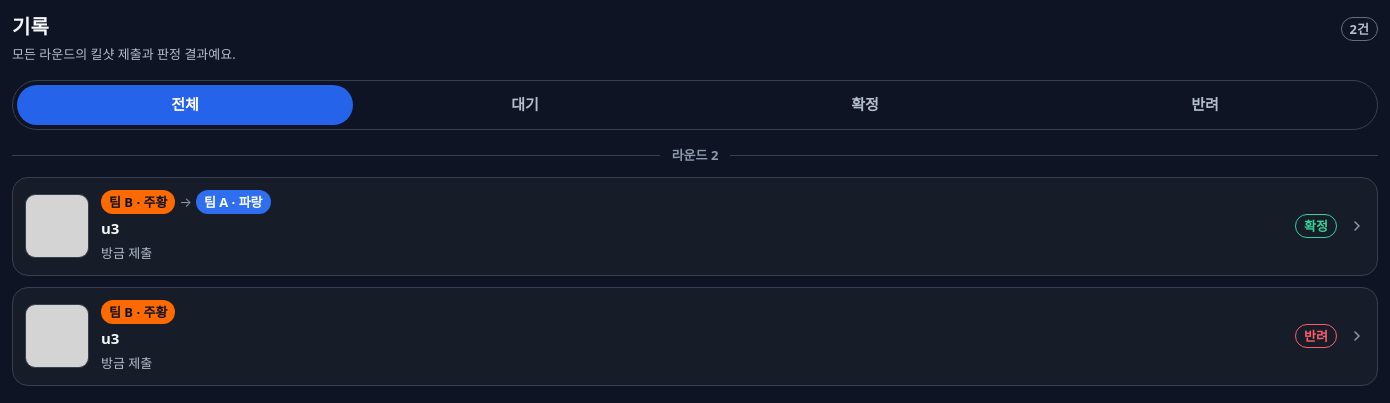
Test: RecordLogList › 상태 필터로 반려만 남긴다
Click the radio button labelled "반려".
click(1205, 105)  # box left=1037, top=85, right=1373, bottom=125
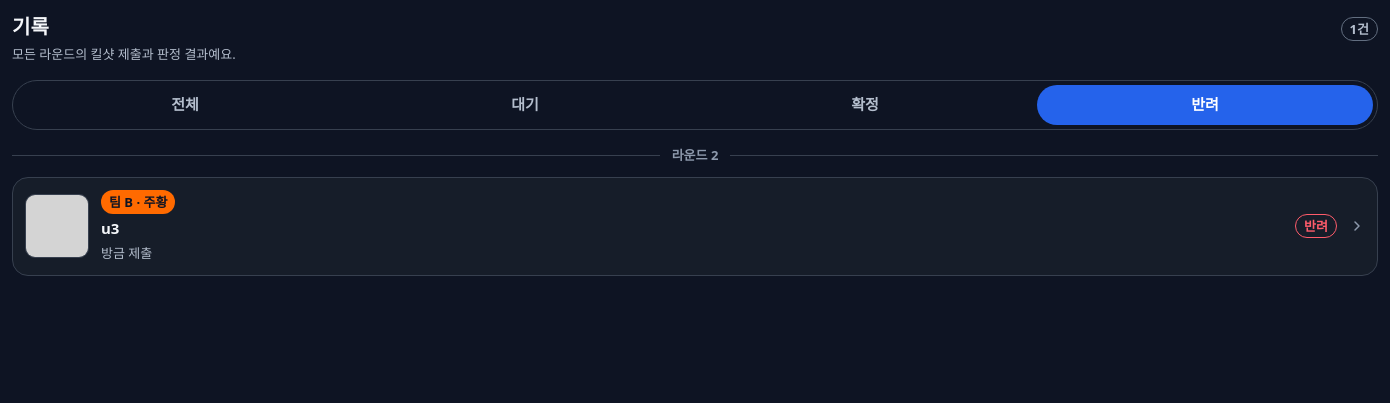
expect the button "팀 B · 주황 u3 방금 제출 반려" is shown: met, box left=12, top=177, right=1378, bottom=275
expect the text "1건" is shown: met, box left=1341, top=17, right=1378, bottom=41
